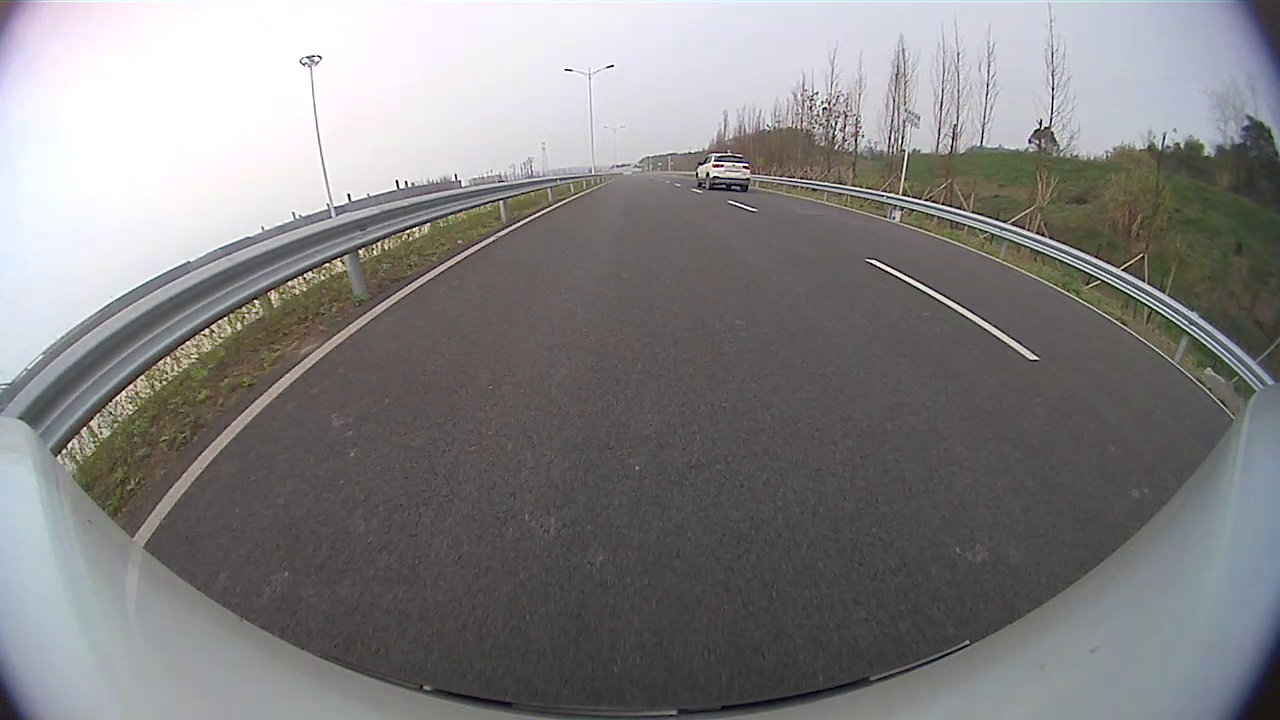car: (695, 153, 750, 191)
rear: (705, 175, 710, 191)
